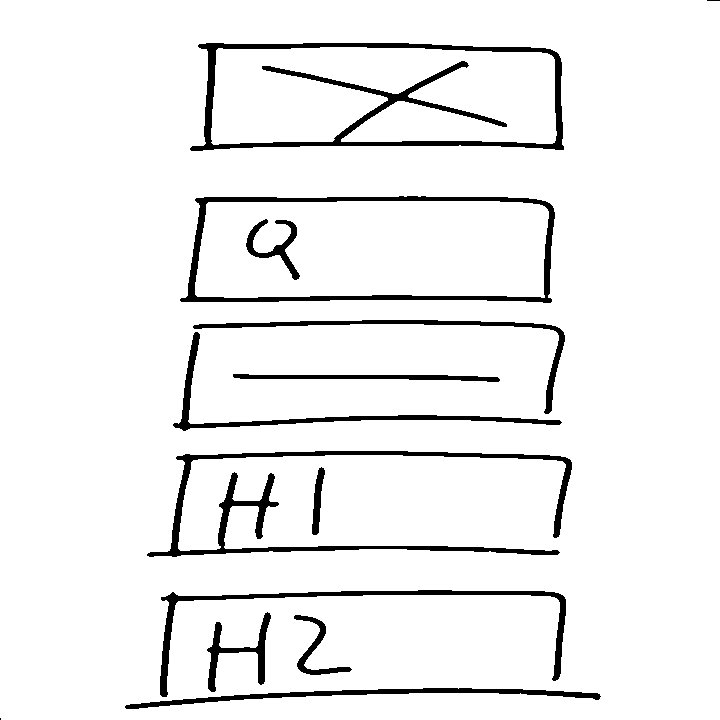button: (173, 314, 571, 439)
heading1: (153, 444, 577, 559)
heading2: (119, 583, 606, 711)
picture: (192, 36, 579, 165)
search bar: (179, 190, 565, 309)
